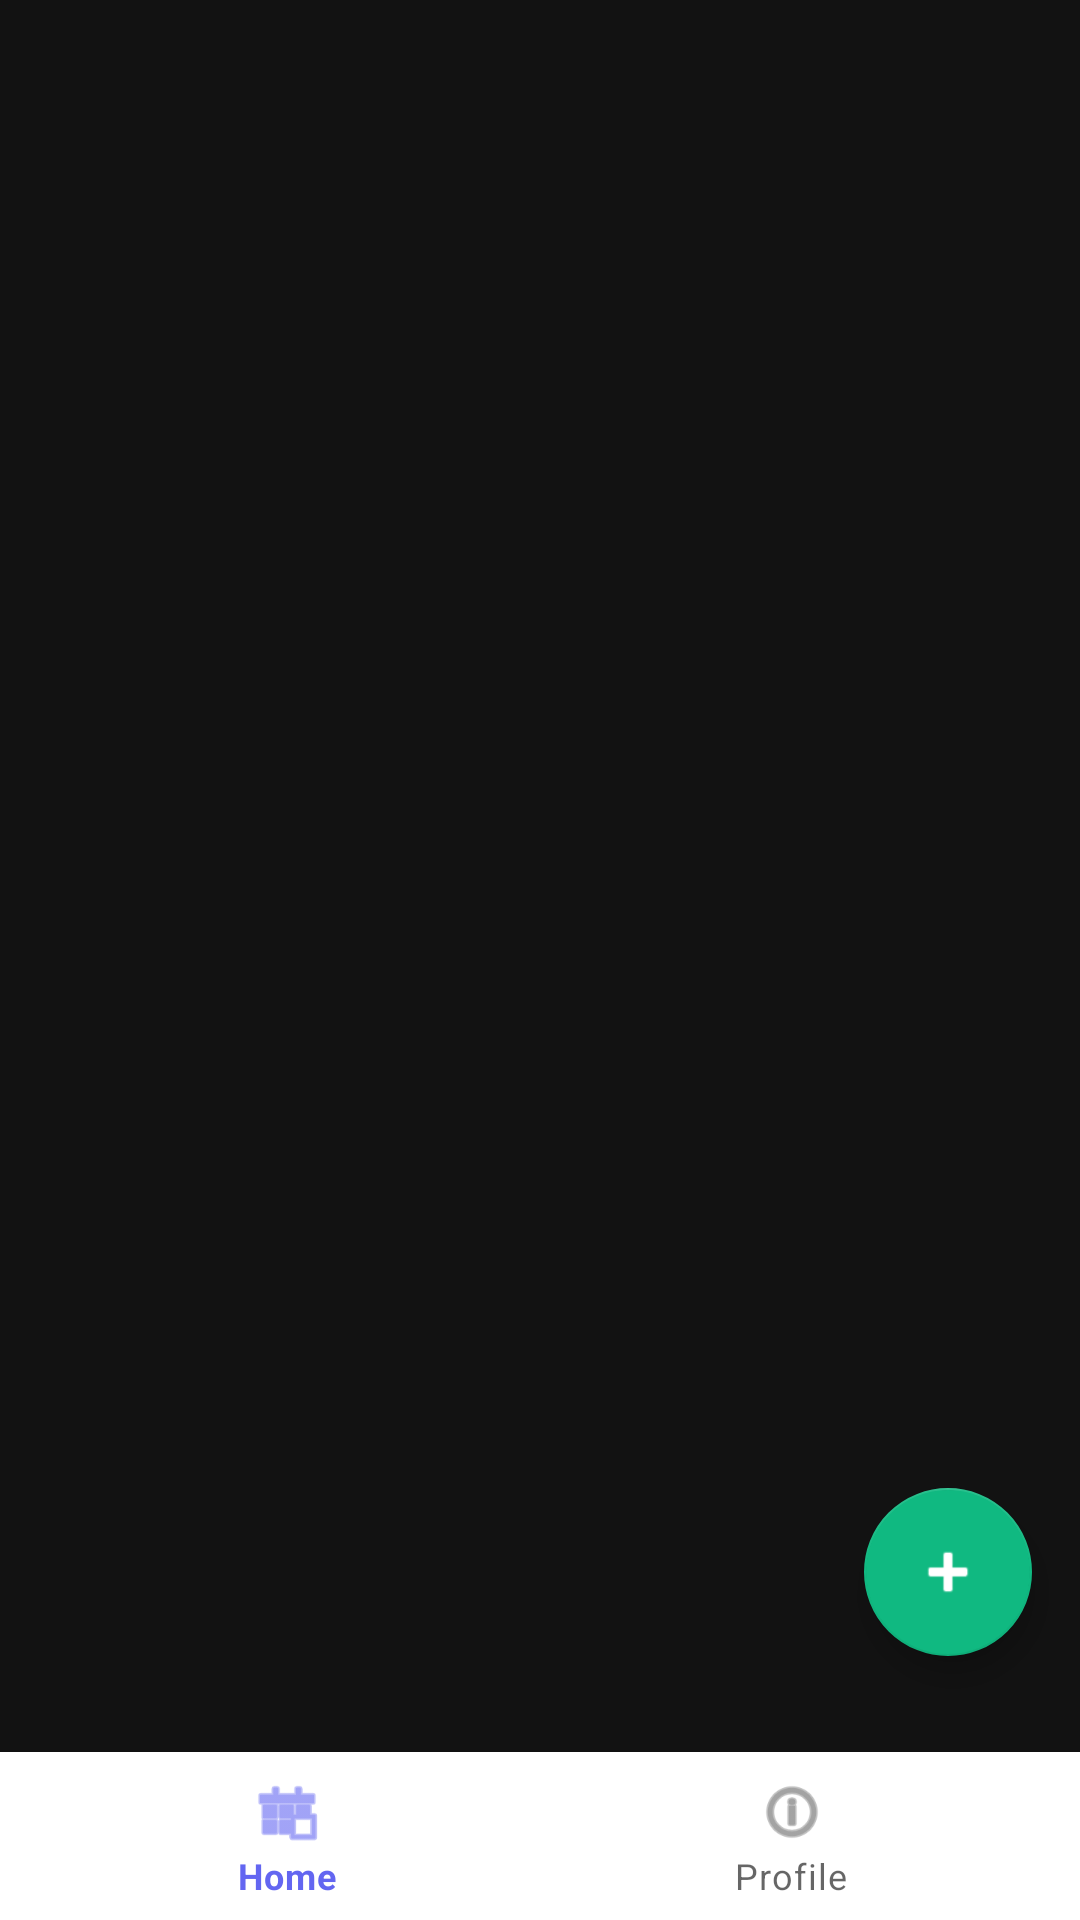

Icon bounding boxes for this 1080 x 1920 phone screenshot, format (x1, y1, x2, y2):
Add: (864, 1488, 1032, 1656)
